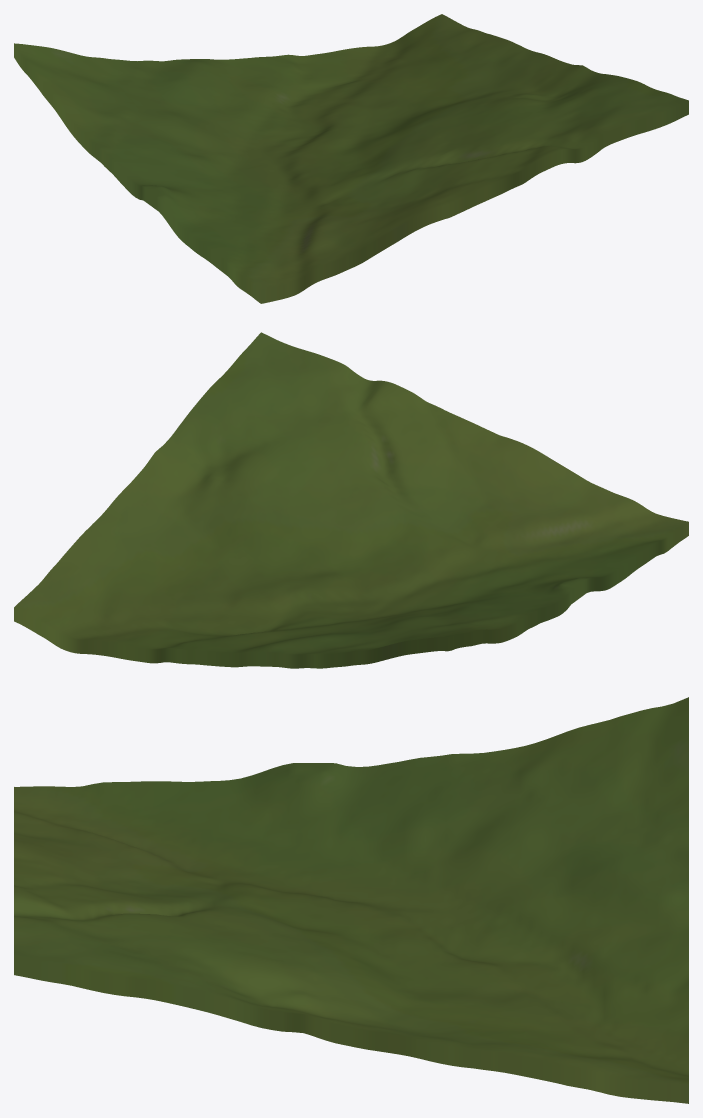
File: terrain_5_-6.glb
3 views of the same model, one above another, from view 1: azimuth 30°, elevation 25°; view 2: azimuth 150°, elevation 25°; view 3: azimuth 270°, elevation 25° (orthographic). The views are drawn at different scales.
Parts seen in each view (by area): view 1: terrain_5_-6; view 2: terrain_5_-6; view 3: terrain_5_-6.
Part boxes in pixels (x1,y1,x2,y2): terrain_5_-6: [14, 14, 688, 303]; terrain_5_-6: [14, 332, 688, 668]; terrain_5_-6: [14, 697, 688, 1103].
Size of the model in its own units: 256 by 71.62 by 256.
